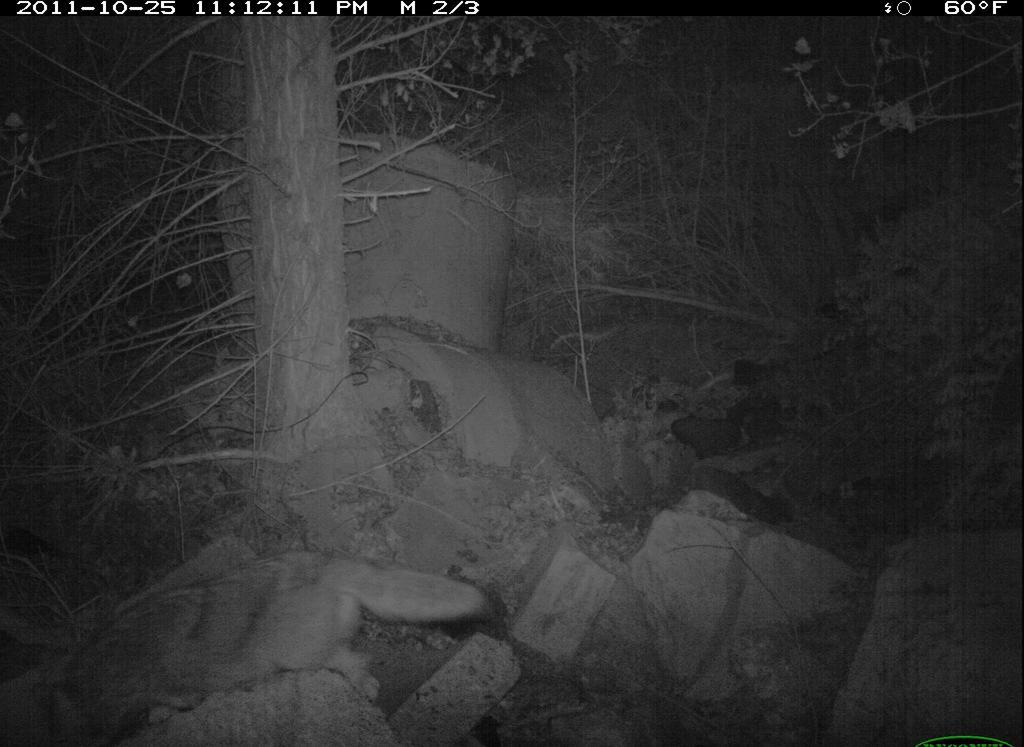coyote: (31, 543, 501, 747)
